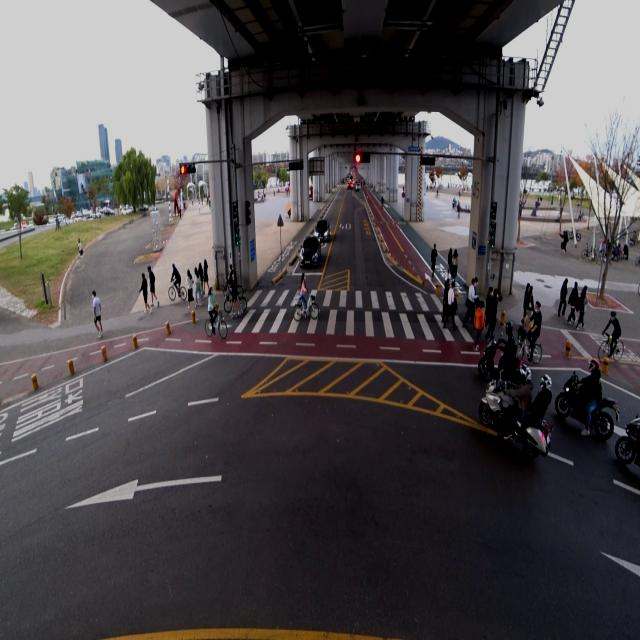Motorcycle: (476, 359, 554, 460), (553, 354, 621, 442), (478, 318, 522, 381)
